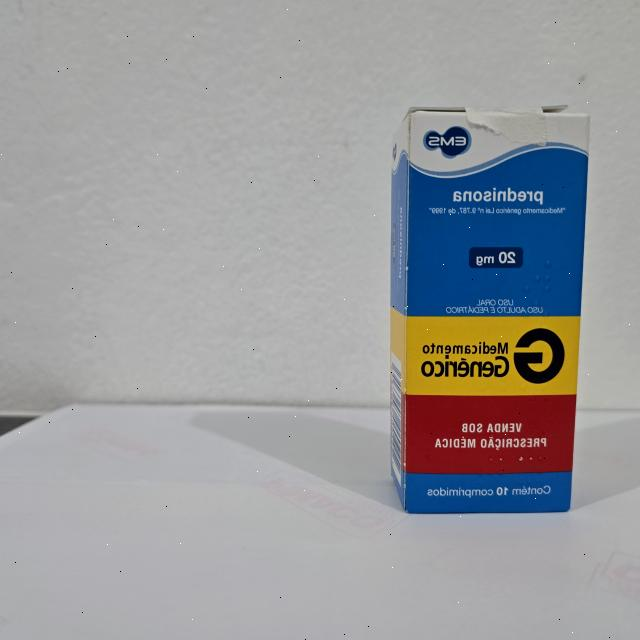prednisona: (388, 101, 594, 517)
